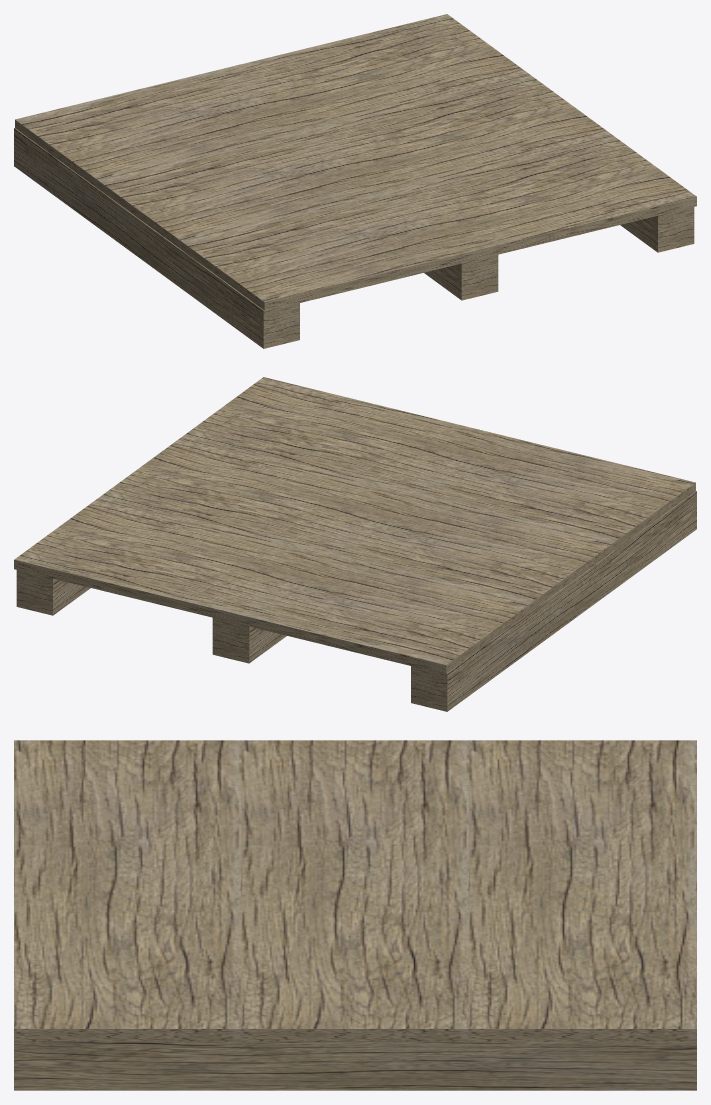
Rendered from pallet.fbx.
3 renders of one model, top to bottom at view 1: azimuth 30°, elevation 25°; view 2: azimuth 150°, elevation 25°; view 3: azimuth 270°, elevation 25°, orthographic. The views are drawn at different scales.
Visible parts, largest first — view 1: pallet; view 2: pallet; view 3: pallet.
Boxes of the visible parts, x1,y1,x2,y2 form: pallet: (14, 14, 696, 348); pallet: (14, 377, 696, 711); pallet: (14, 740, 696, 1090).
Bounding box in the file's own units: 2 × 0.2053 × 2.
